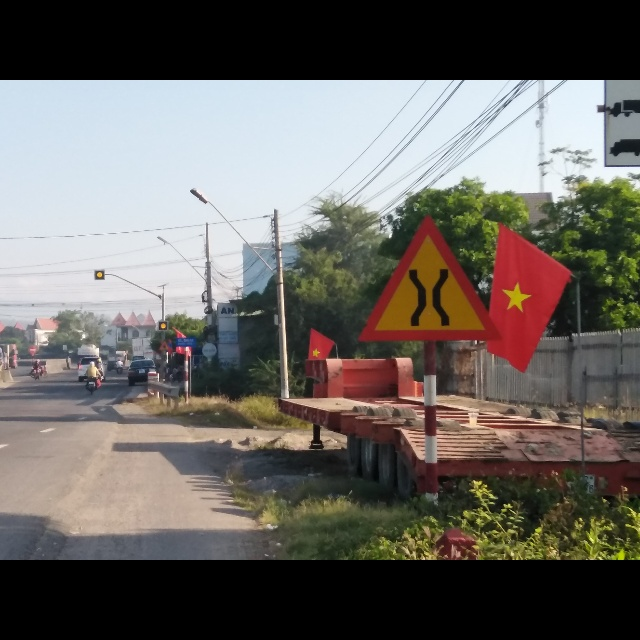Cầu hẹp: (358, 212, 505, 344)
